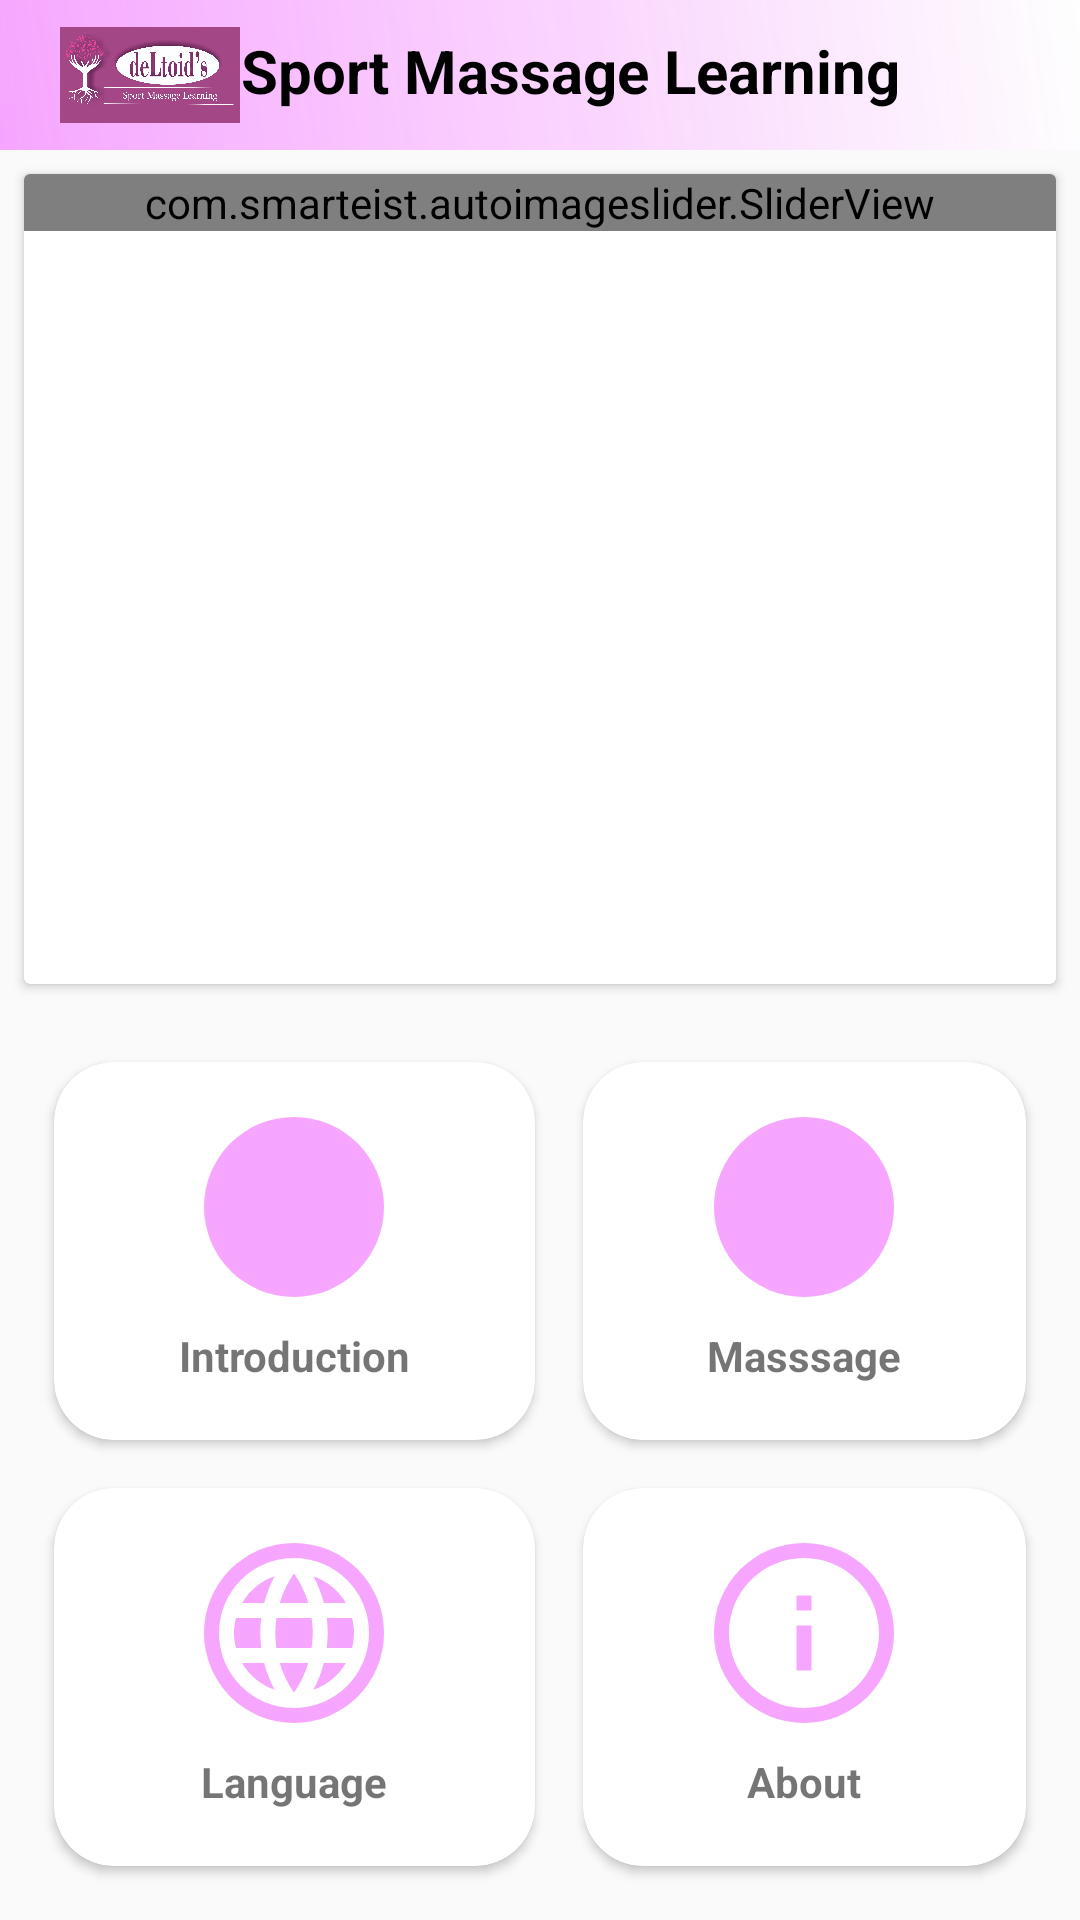

Where to tap for icons on this 1080px×1920px app screen, as (x=x, y=y):
info: (x=804, y=1633)
